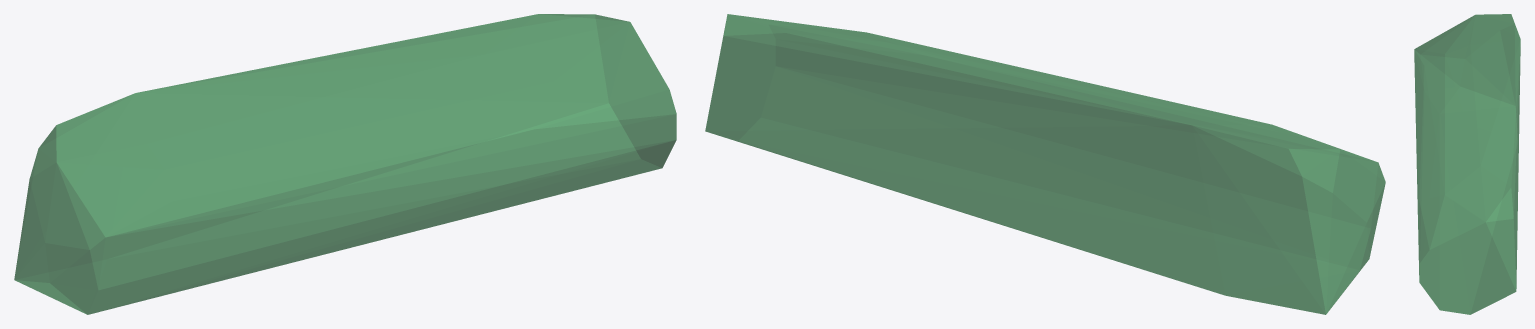
3 views of the same model, side by side, from view 1: azimuth 30°, elevation 25°; view 2: azimuth 150°, elevation 25°; view 3: azimuth 270°, elevation 25° (orthographic). The views are drawn at different scales.
Parts seen in each view (by area): view 1: Shape_IndexedFaceSet.008_Shape_IndexedFaceSet.18099; view 2: Shape_IndexedFaceSet.008_Shape_IndexedFaceSet.18099; view 3: Shape_IndexedFaceSet.008_Shape_IndexedFaceSet.18099.
Part boxes in pixels (bbox=[...]): Shape_IndexedFaceSet.008_Shape_IndexedFaceSet.18099: bbox=[14, 14, 676, 314]; Shape_IndexedFaceSet.008_Shape_IndexedFaceSet.18099: bbox=[705, 14, 1385, 314]; Shape_IndexedFaceSet.008_Shape_IndexedFaceSet.18099: bbox=[1414, 14, 1520, 314].
Bounding box in the file's own units: 0.5117 × 0.1285 × 0.11.
